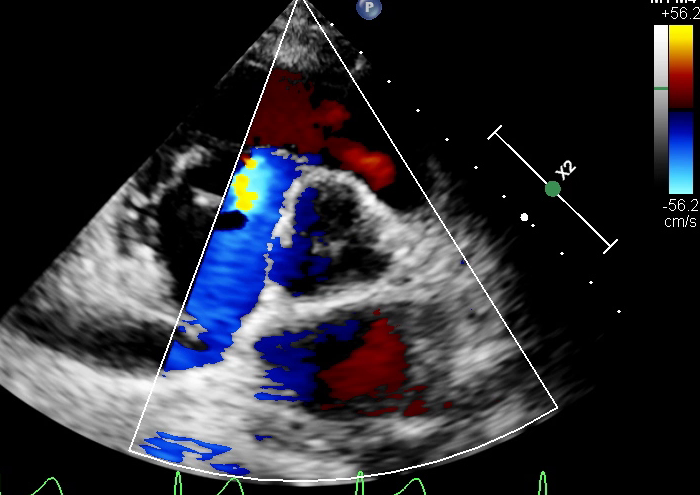TR: (190, 147, 296, 256)
